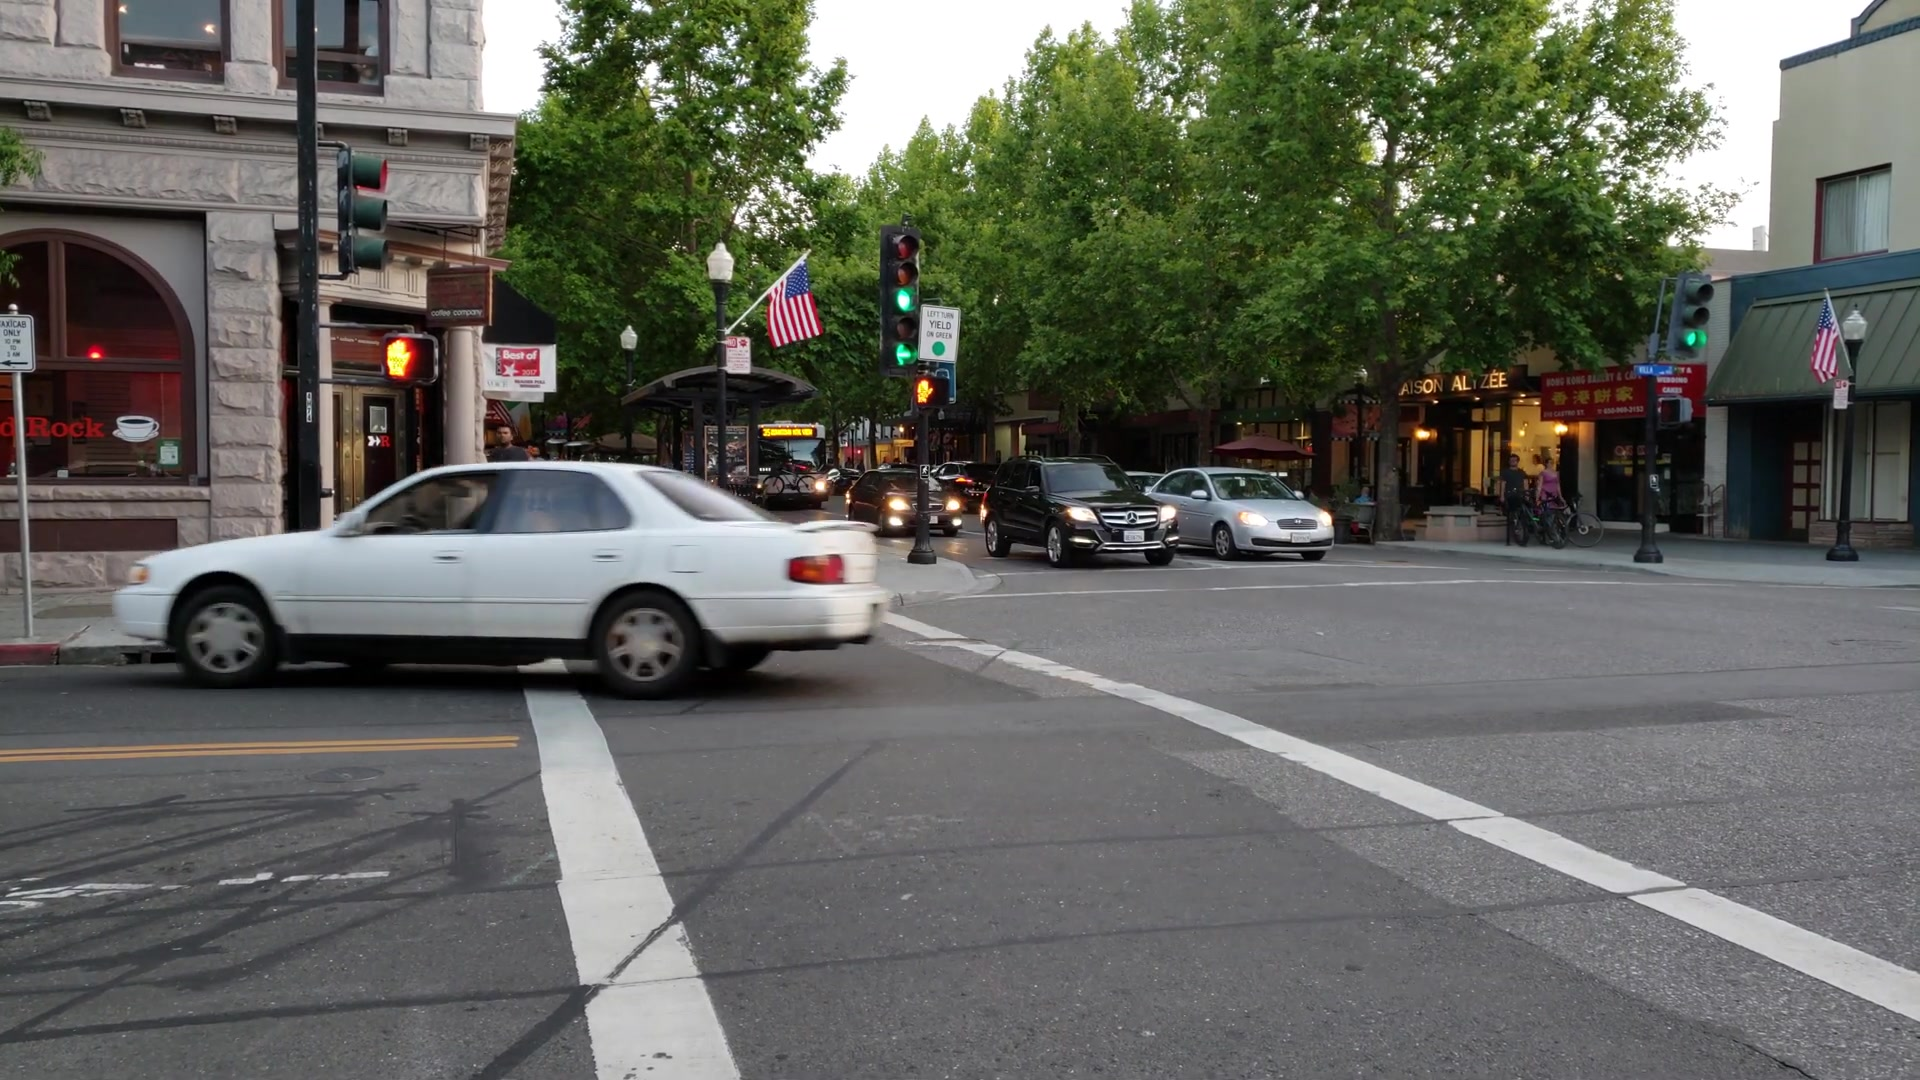vehicle: (113, 459, 877, 702), (978, 454, 1179, 572), (1149, 465, 1335, 562), (844, 469, 963, 535)
